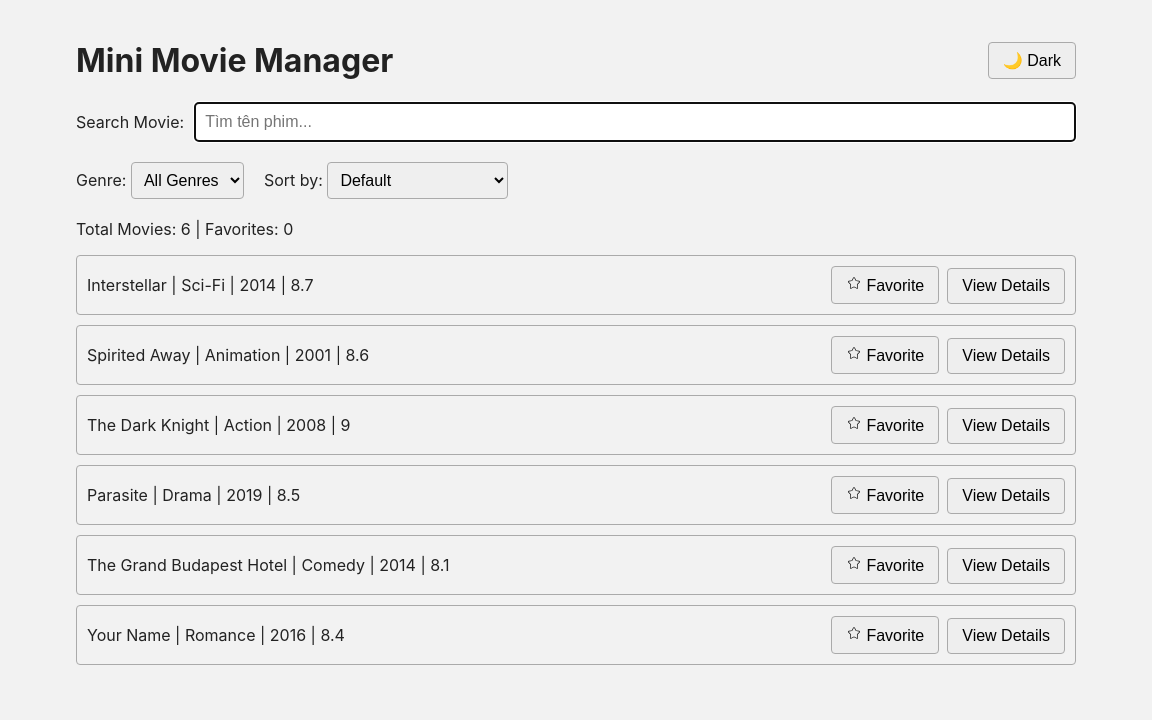
tìm kiếm không phân biệt hoa thường
In the field with placeholder "Tìm tên phim...": [635, 122] box [194,102,1076,142], type "dark"
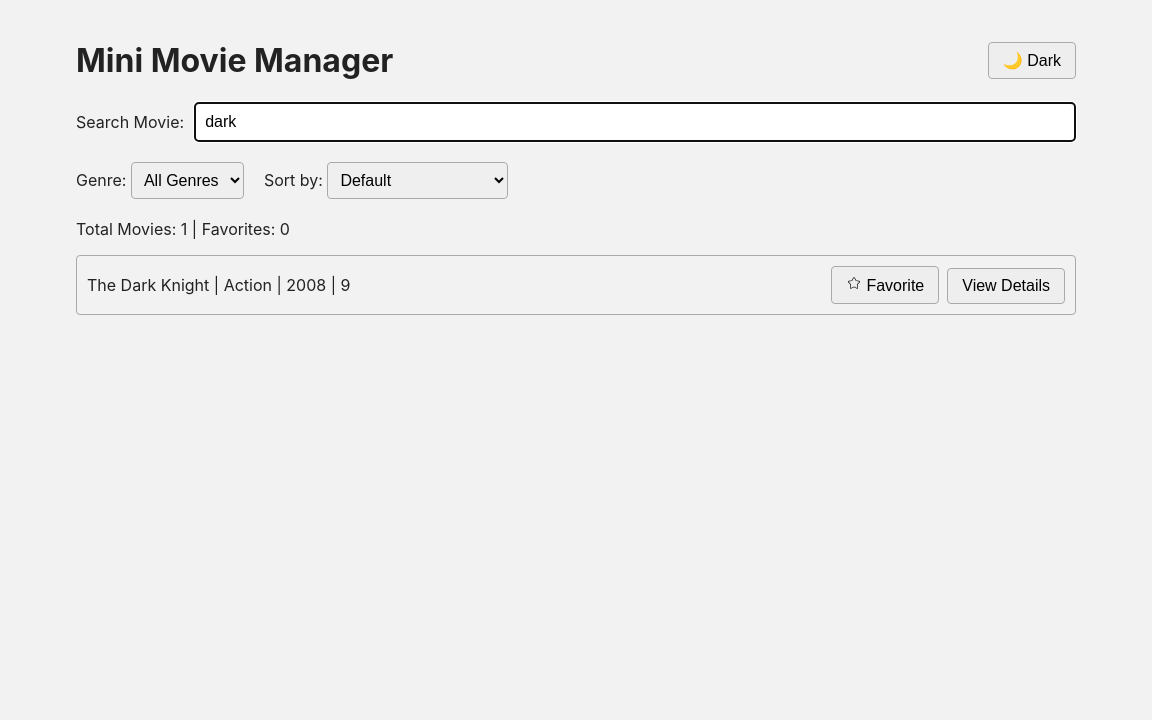
Expected: the text "The Dark Knight | Action | 2008 | 9" is shown, [87,275,350,295]
Now the text "Total Movies: 1 | Favorites: 0" is shown, box [76,219,290,239]
